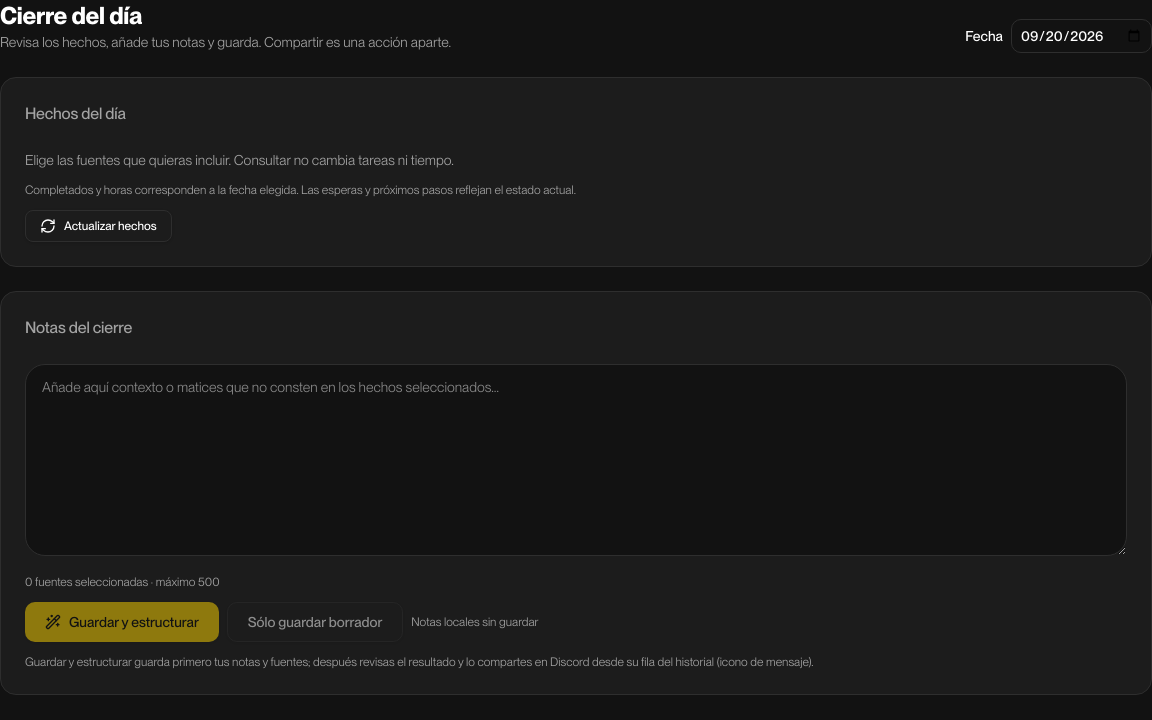
it: opens a historical daily in its own date without retargeting the active notes
The width and height of the screenshot is (1152, 720).
Replace the text in the text box named "Notas del daily" with "Notas del 20" at point(576, 460), box [25,364,1127,556]
(page scrolled)
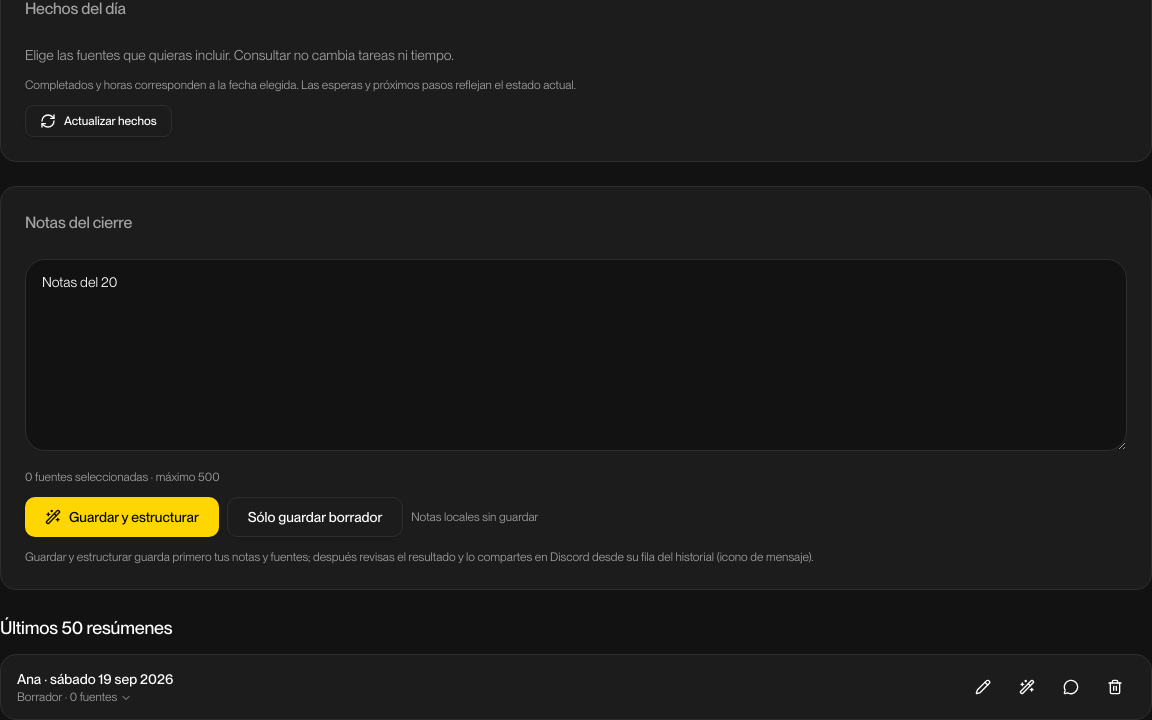
Click the button named "Editar".
click(983, 687)  # box [963,667,1003,707]
(page scrolled)
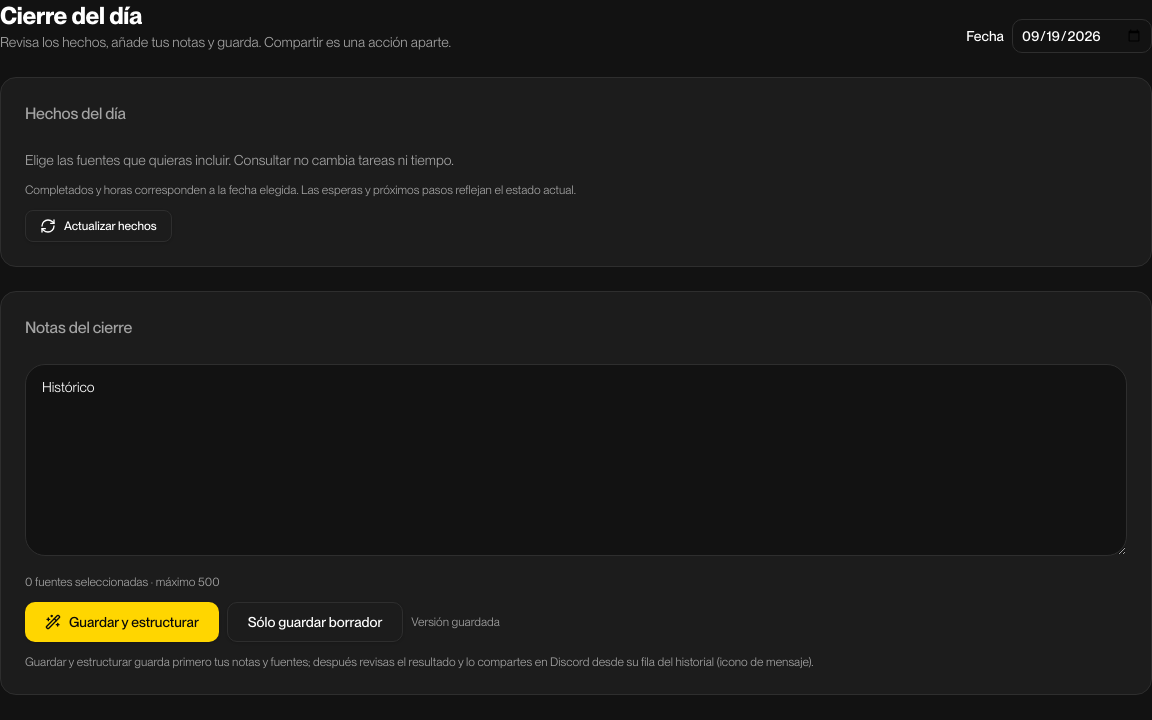
Check: the date field named "Fecha del daily" holds "2026-09-19", box [1012,19,1151,53]
Check: the text box named "Notas del daily" holds "Histórico", box [25,364,1127,556]
